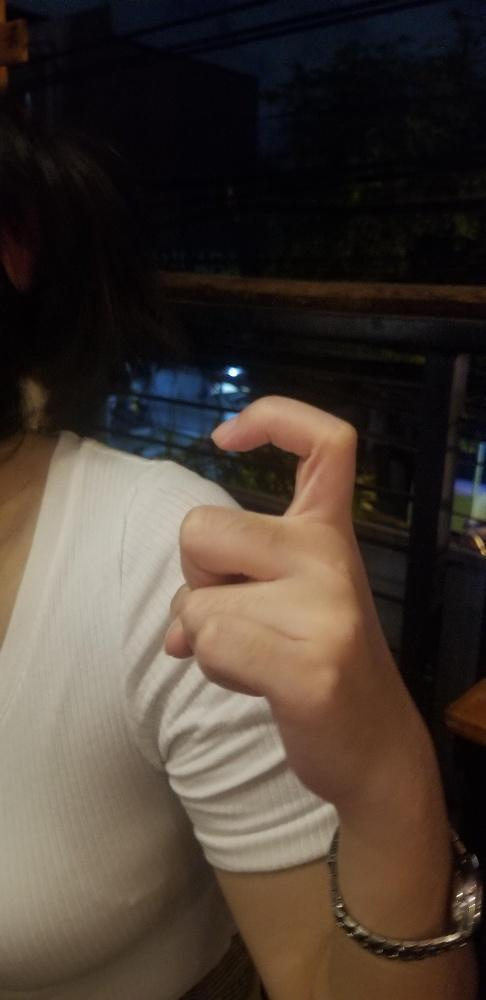x: (160, 394, 376, 804)
